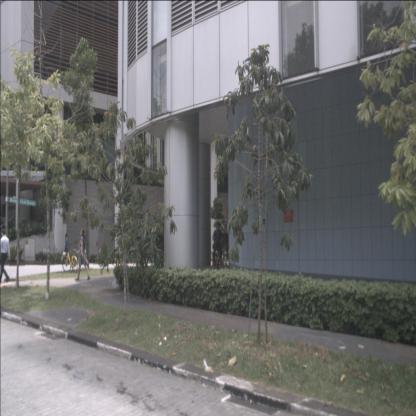human-pedestrian-adult: (74, 228, 90, 281), (0, 230, 11, 284), (64, 234, 69, 262)
vehicle-bicycle: (62, 243, 78, 273)
